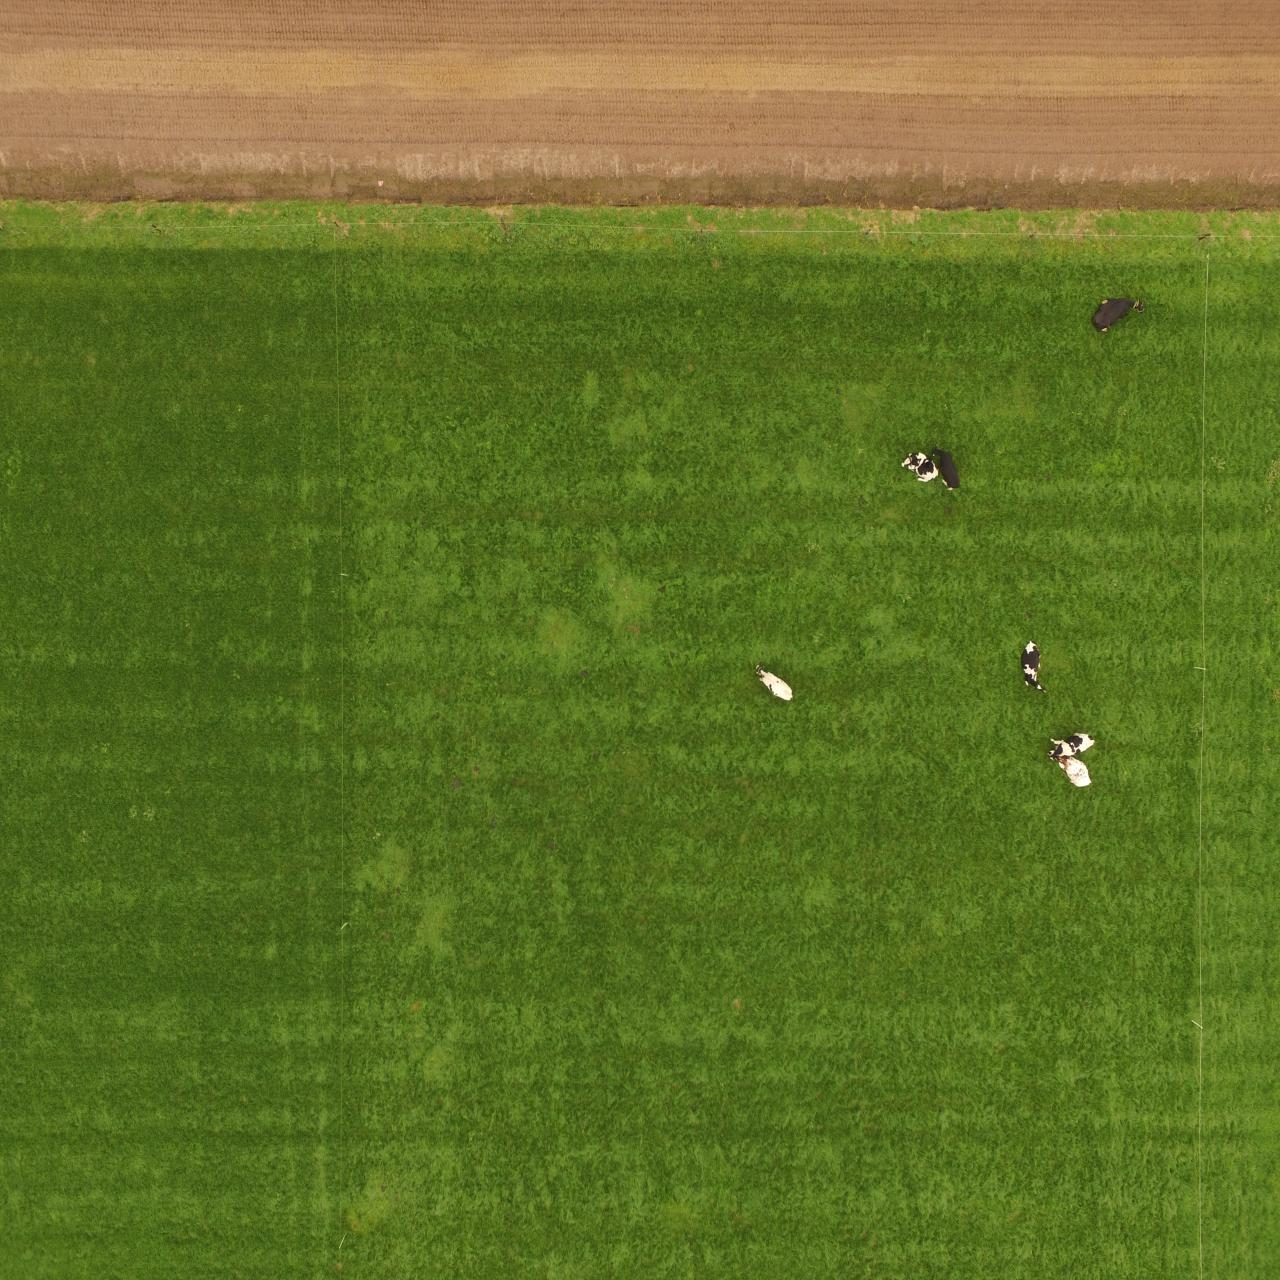cow: (1088, 293, 1148, 334), (755, 662, 797, 707), (1043, 730, 1097, 762), (931, 444, 961, 496), (1021, 636, 1044, 697), (899, 451, 942, 484), (1057, 758, 1095, 788)
